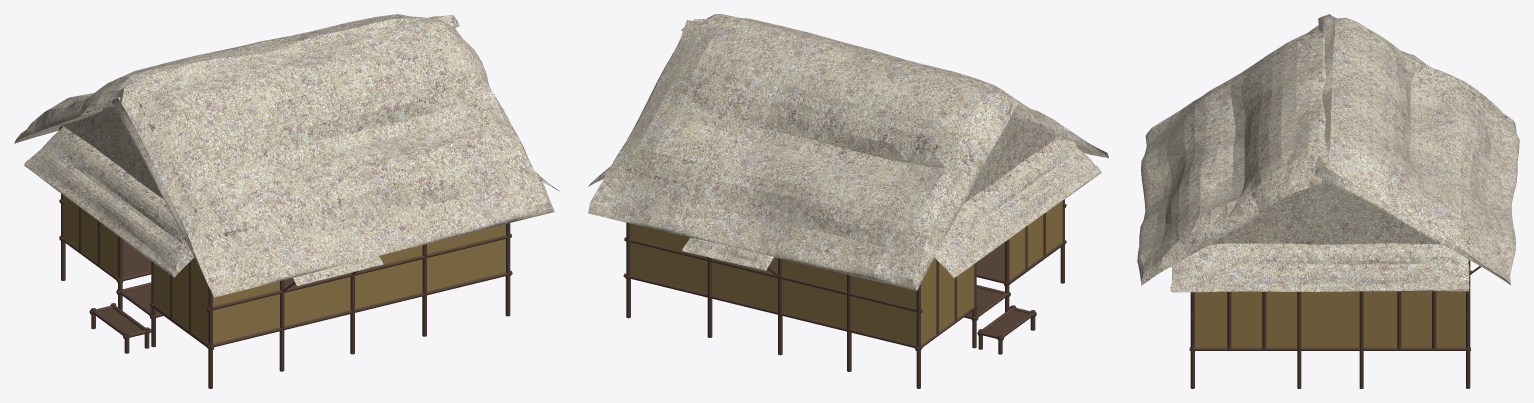
3 renders of one model, left to right at view 1: azimuth 30°, elevation 25°; view 2: azimuth 150°, elevation 25°; view 3: azimuth 270°, elevation 25°, orthographic. The views are drawn at different scales.
Visible parts, largest first — view 1: 8; view 2: 8; view 3: 8.
Part boxes in pixels (box(x1,y1,x2,y2)): 8: box(14, 14, 559, 388); 8: box(588, 14, 1108, 388); 8: box(1137, 14, 1519, 388).
Bounding box in the file's own units: 31.76 × 20.48 × 29.78.
Materials: 5 (5 with a texture image).
